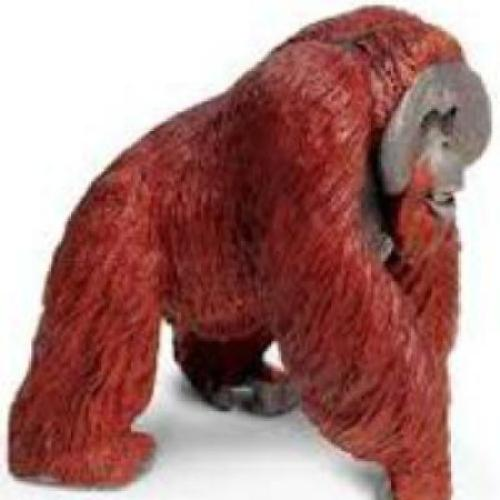orangutan-endangered: (60, 15, 484, 438)
